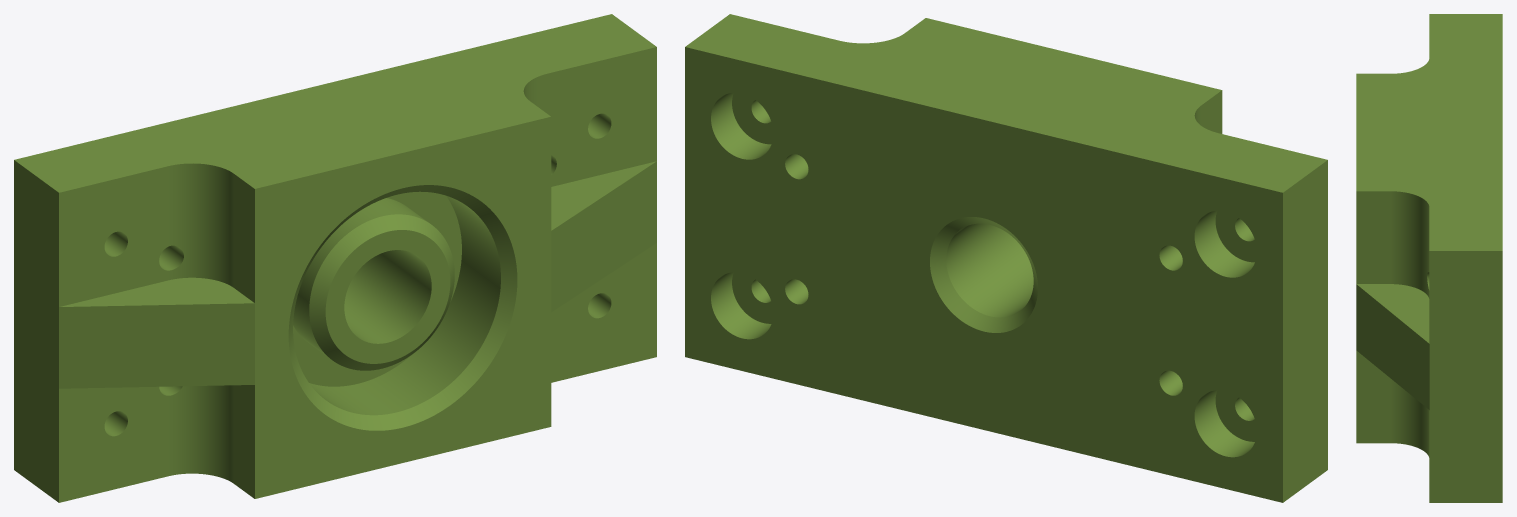
The model's file is sujetador guia ejercedor presion.obj.
3 renders of one model, left to right at view 1: azimuth 30°, elevation 25°; view 2: azimuth 150°, elevation 25°; view 3: azimuth 270°, elevation 25°, orthographic. The views are drawn at different scales.
Parts seen in each view (by area): view 1: Solid1; view 2: Solid1; view 3: Solid1.
Boxes of the visible parts, x1,y1,x2,y2 form: Solid1: (14, 14, 656, 502); Solid1: (685, 14, 1327, 502); Solid1: (1356, 14, 1502, 502).
Bounding box in the file's own units: 115 × 57 × 30.
